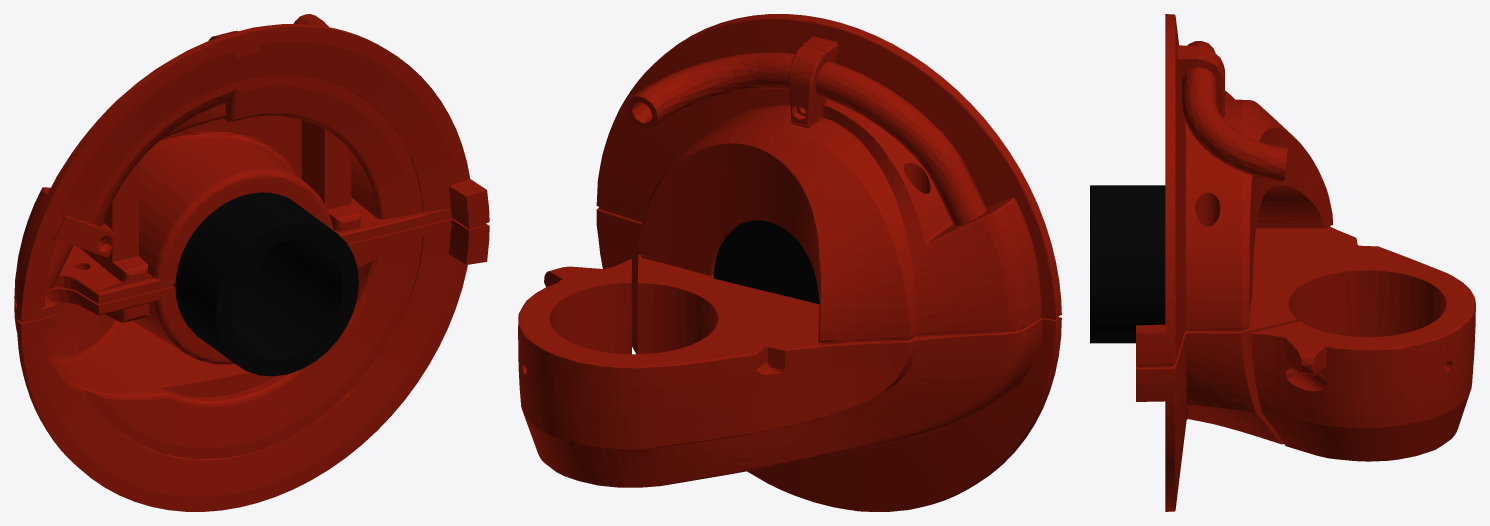
The model's file is arm_joint_1.obj.
3 renders of one model, left to right at view 1: azimuth 30°, elevation 25°; view 2: azimuth 150°, elevation 25°; view 3: azimuth 270°, elevation 25°, orthographic. The views are drawn at different scales.
Visible parts, largest first — view 1: arm_joint_1_Cylinder_007-Geom_001; view 2: arm_joint_1_Cylinder_007-Geom_001; view 3: arm_joint_1_Cylinder_007-Geom_001.
Boxes of the visible parts, x1,y1,x2,y2 form: arm_joint_1_Cylinder_007-Geom_001: (14, 14, 489, 511); arm_joint_1_Cylinder_007-Geom_001: (518, 14, 1061, 511); arm_joint_1_Cylinder_007-Geom_001: (1090, 14, 1475, 511).
Bounding box in the file's own units: 0.1706 × 0.1699 × 0.1318.
